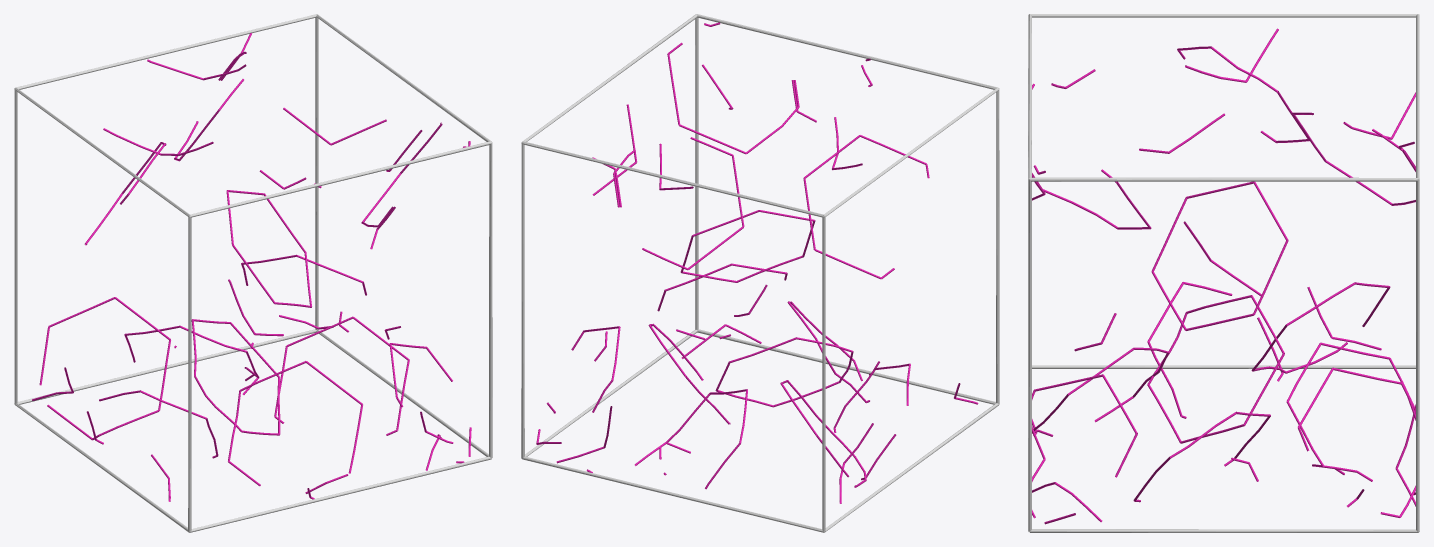
The model's file is remove.glb.
3 renders of one model, left to right at view 1: azimuth 30°, elevation 25°; view 2: azimuth 150°, elevation 25°; view 3: azimuth 270°, elevation 25°, orthographic. The views are drawn at different scales.
Parts seen in each view (by area): view 1: Shape_IndexedLineSet, Shape_IndexedLineSet.001; view 2: Shape_IndexedLineSet, Shape_IndexedLineSet.001; view 3: Shape_IndexedLineSet.001, Shape_IndexedLineSet.
Part boxes in pixels (<box>): Shape_IndexedLineSet: <box>14,14,492,532</box>; Shape_IndexedLineSet.001: <box>32,33,471,501</box>; Shape_IndexedLineSet: <box>521,14,999,532</box>; Shape_IndexedLineSet.001: <box>536,22,978,503</box>; Shape_IndexedLineSet.001: <box>1032,28,1415,524</box>; Shape_IndexedLineSet: <box>1028,14,1419,532</box>.
Size of the model in its own units: 10.1 by 10.1 by 10.1.
